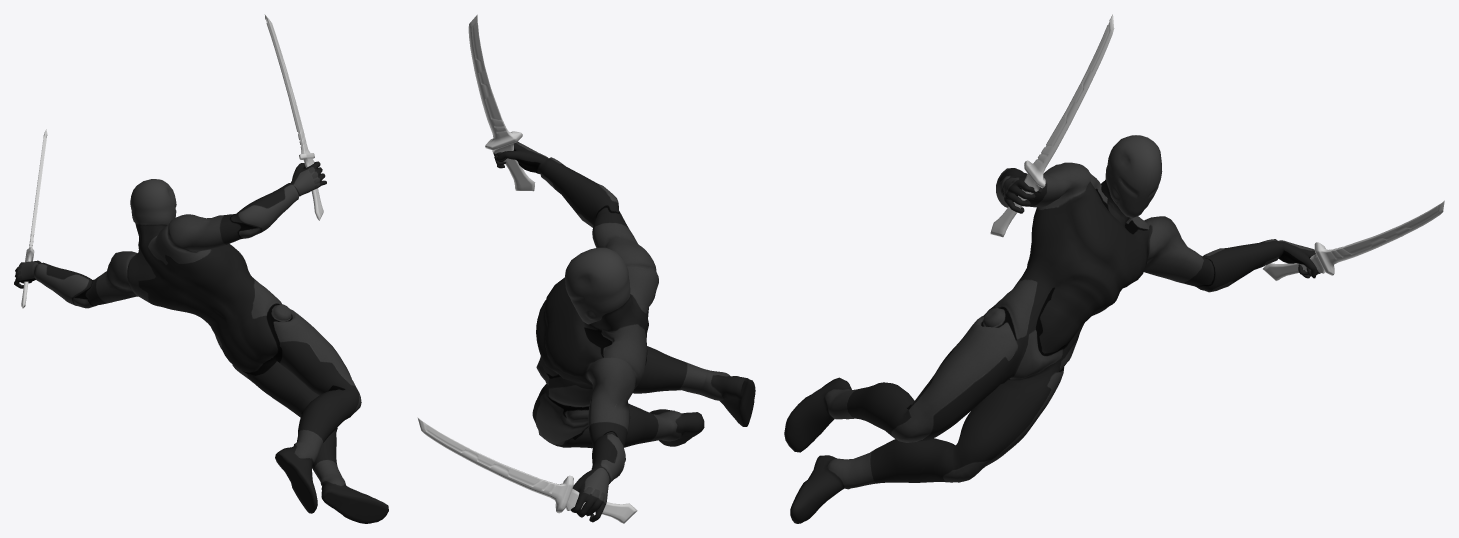
3 views of the same model, side by side, from view 1: azimuth 30°, elevation 25°; view 2: azimuth 150°, elevation 25°; view 3: azimuth 270°, elevation 25° (orthographic). The views are drawn at different scales.
Visible parts, largest first — view 1: Cyborg_Ninja_Killer, Sword_l001, Sword_l; view 2: Cyborg_Ninja_Killer, Sword_l, Sword_l001; view 3: Cyborg_Ninja_Killer, Sword_l001, Sword_l.
Part boxes in pixels (box(x1,y1,x2,y2)): Cyborg_Ninja_Killer: box(14, 161, 388, 523); Sword_l001: box(264, 14, 323, 220); Sword_l: box(21, 129, 47, 308); Cyborg_Ninja_Killer: box(493, 142, 755, 522); Sword_l: box(417, 417, 637, 523); Sword_l001: box(468, 14, 535, 191); Cyborg_Ninja_Killer: box(784, 135, 1320, 523); Sword_l001: box(990, 14, 1114, 237); Sword_l: box(1263, 200, 1444, 280).
Bounding box in the file's own units: 98.76 × 190 × 220.
